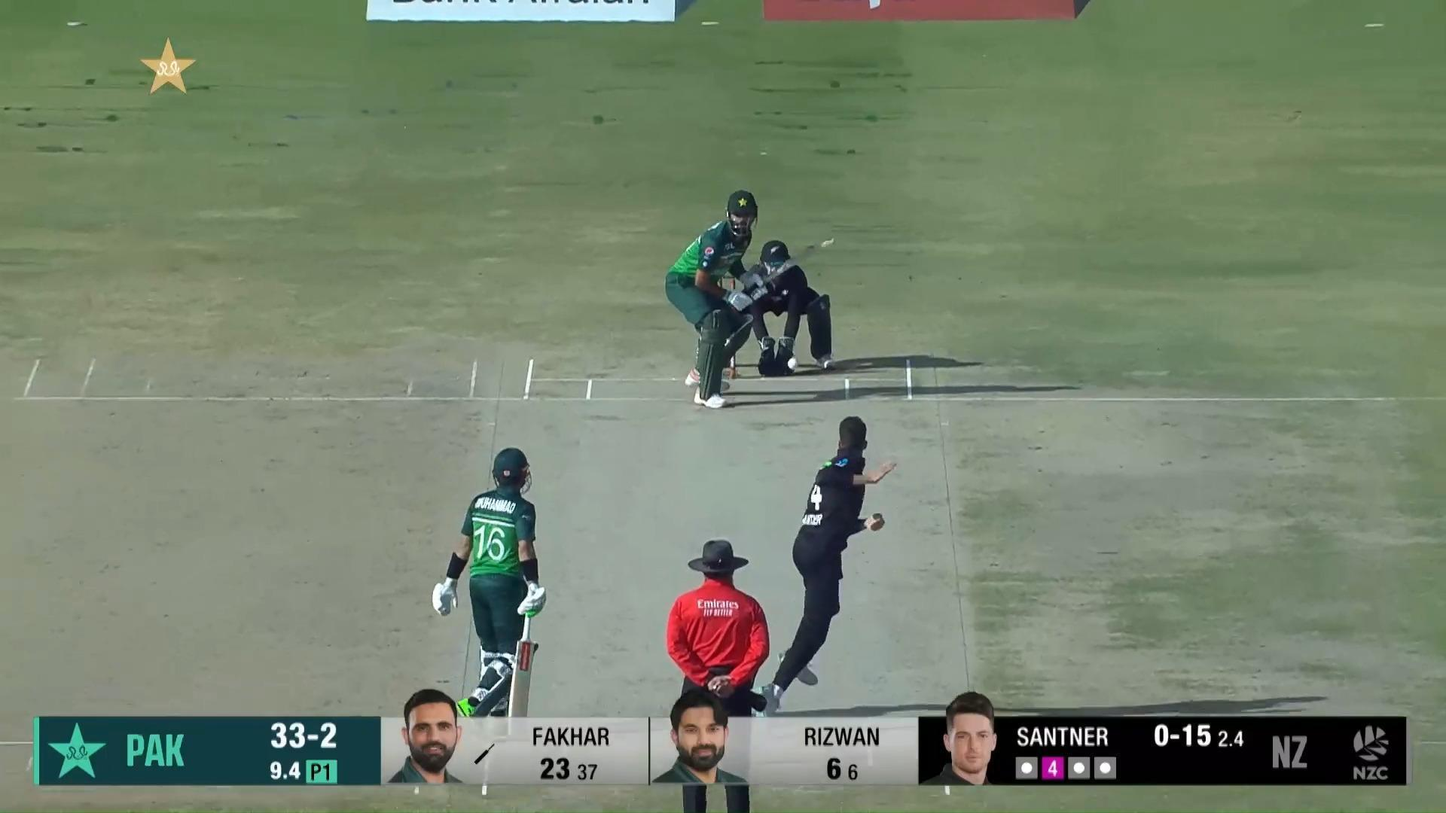BM 1: (663, 189, 837, 410)
BO: (753, 415, 900, 731)
